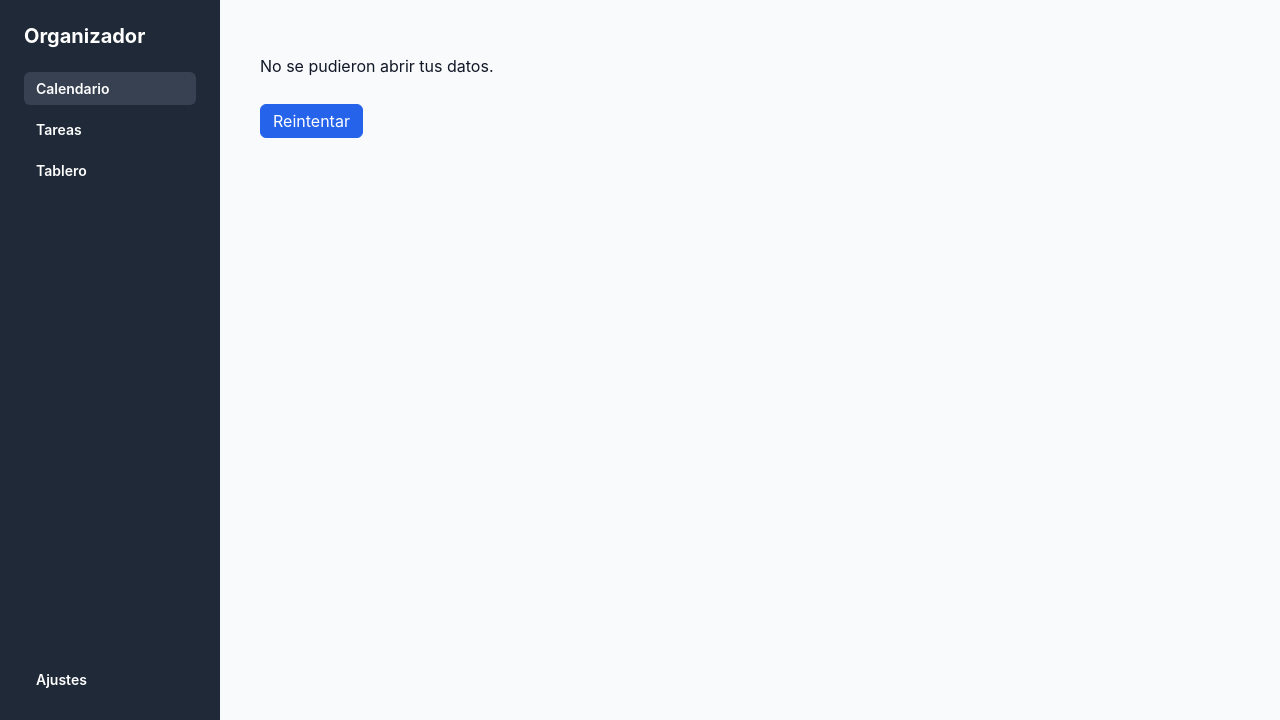
Scenario: si no puede abrir los datos lo dice y permite reintentar
Check: the text "No se pudieron abrir tus datos." is shown, box [260,56,494,76]
What coordinates should you click on to do the following:
click the button "Reintentar"
I would click on:
 (311, 121)
Its box is [260,104,363,138].
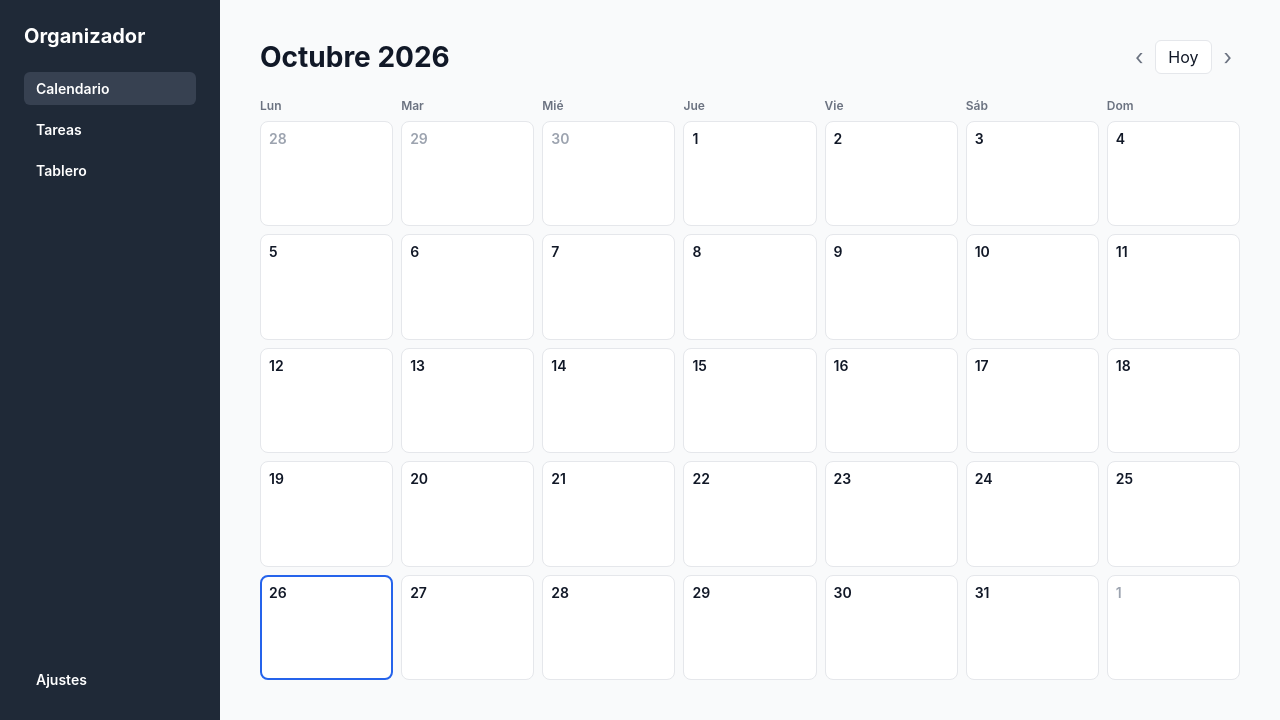
Check: the heading "Octubre 2026" is shown, box [260,40,450,74]
